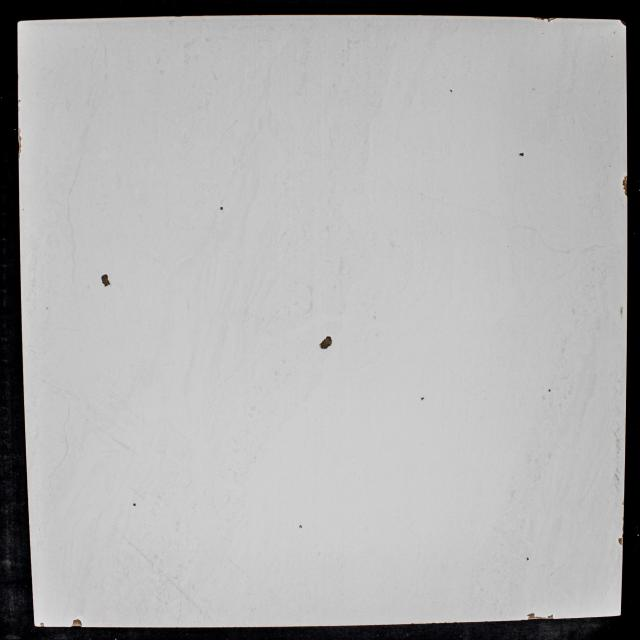edge-chipping: (18, 135, 22, 160), (71, 619, 82, 627), (532, 16, 546, 21), (526, 613, 536, 620), (622, 175, 628, 186), (623, 186, 628, 197), (618, 537, 623, 547), (546, 18, 558, 22), (620, 19, 626, 27), (547, 615, 554, 619), (536, 617, 547, 619), (40, 623, 44, 627), (622, 500, 625, 505), (622, 526, 624, 532), (622, 516, 624, 520), (622, 533, 623, 537)
hole: (319, 336, 332, 349), (101, 274, 111, 287), (519, 152, 524, 157), (220, 207, 223, 210), (548, 389, 551, 392), (133, 503, 136, 506), (299, 525, 302, 528), (450, 89, 452, 93), (527, 557, 529, 561), (421, 398, 424, 400)
